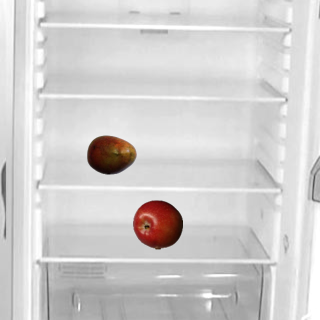Apple Braeburn: (132, 199, 182, 249)
Mango Red: (86, 129, 136, 179)
